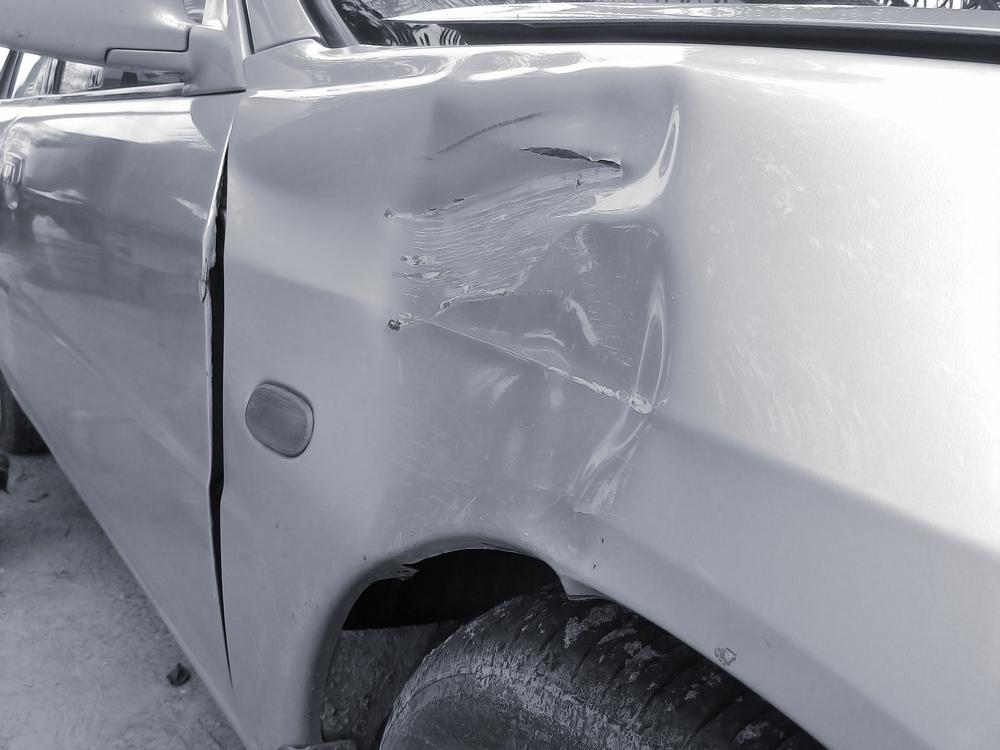dent: (236, 54, 691, 580)
